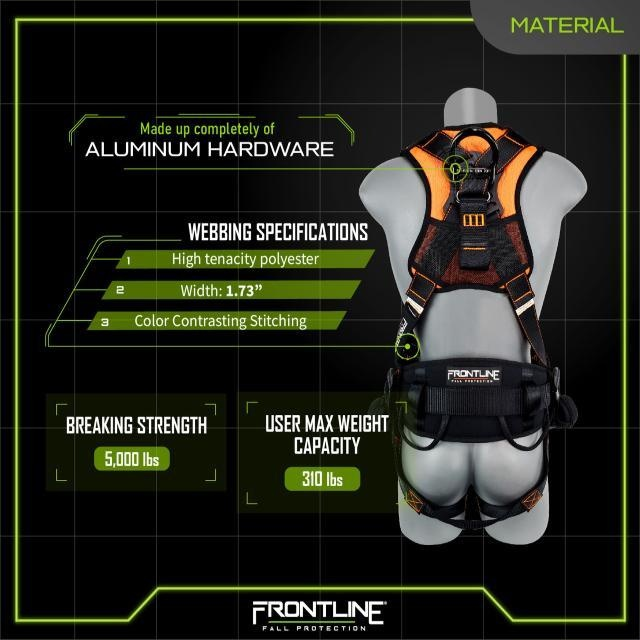Arnes_seguridad: (381, 125, 569, 533)
